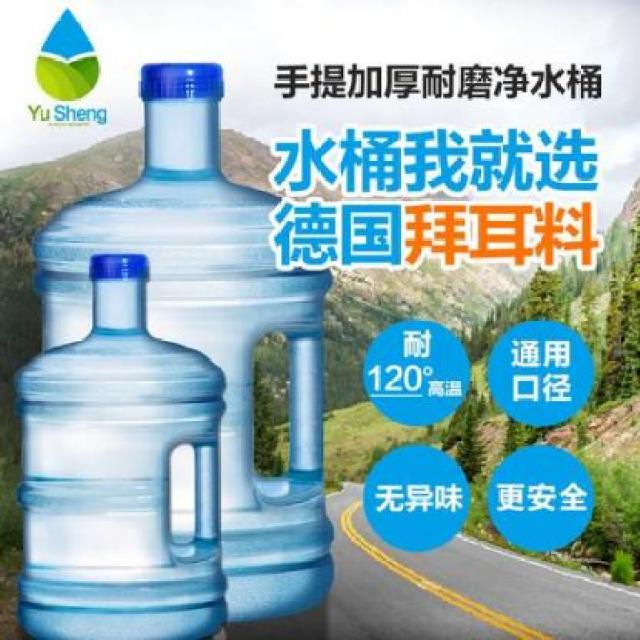coolerbottle: (8, 246, 233, 640)
